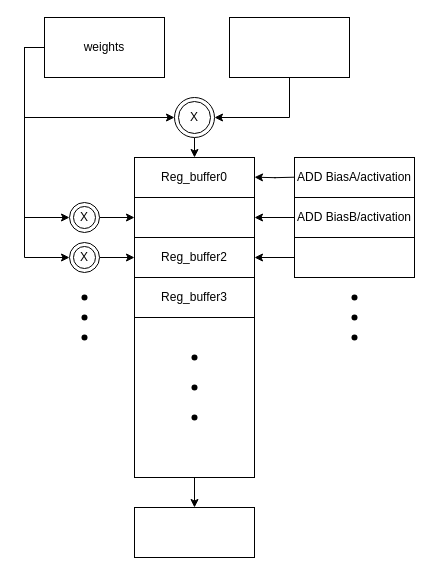
Image size: 432x575. Some labels were removed from this diagram. Here are the shapes that lost their labels. From the top down, the box of each, then its label:
(228, 16, 350, 78): inputs 640(644)x1(int8)
(134, 196, 254, 238): Reg_buffer1
(294, 236, 414, 278): ADD BiasC/activation
(134, 506, 254, 558): 640(644)x1(int8)
